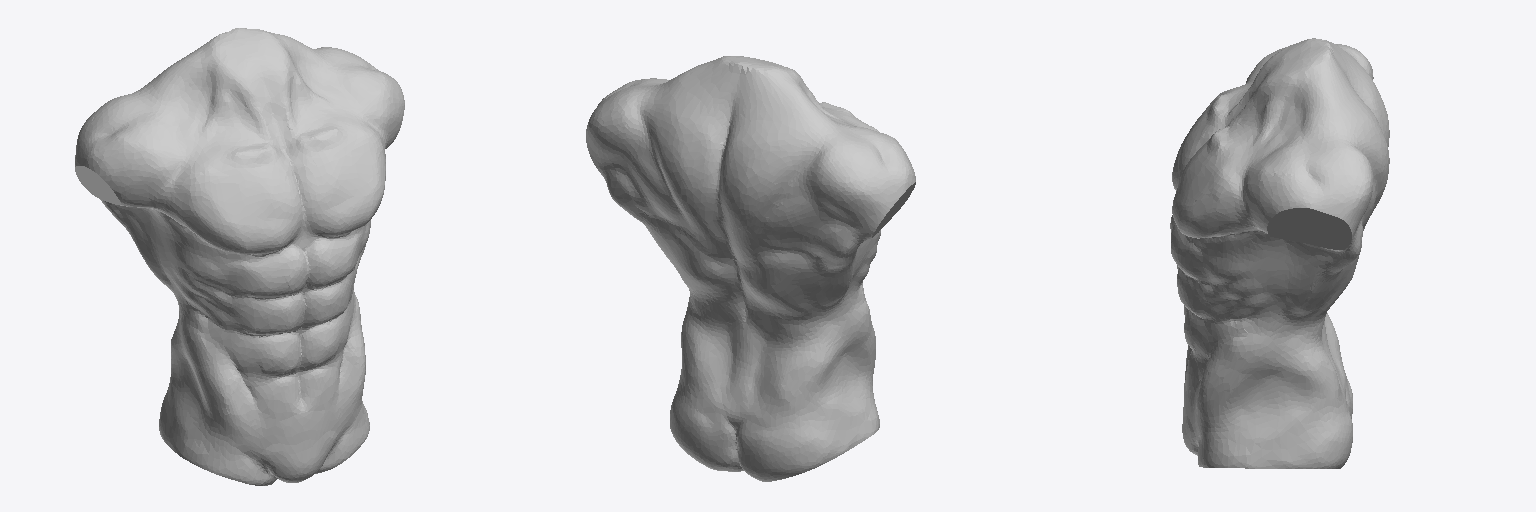
File: MEN.obj
3 views of the same model, side by side, from view 1: azimuth 30°, elevation 25°; view 2: azimuth 150°, elevation 25°; view 3: azimuth 270°, elevation 25° (orthographic).
Parts seen in each view (by area): view 1: Men_Mesh_Model001_24_GTAMtl_1.0_0.0_0.0; view 2: Men_Mesh_Model001_24_GTAMtl_1.0_0.0_0.0; view 3: Men_Mesh_Model001_24_GTAMtl_1.0_0.0_0.0.
Boxes of the visible parts, box(x1,y1,x2,y2) form: Men_Mesh_Model001_24_GTAMtl_1.0_0.0_0.0: box(75, 28, 404, 485); Men_Mesh_Model001_24_GTAMtl_1.0_0.0_0.0: box(586, 56, 915, 481); Men_Mesh_Model001_24_GTAMtl_1.0_0.0_0.0: box(1170, 38, 1389, 468).
Size of the model in its own units: 1.32 by 1.7 by 0.8077.